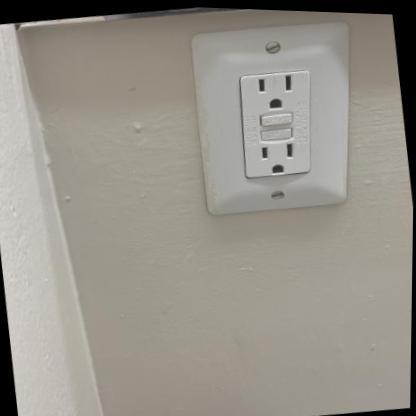OUTLET: (183, 13, 368, 222)
